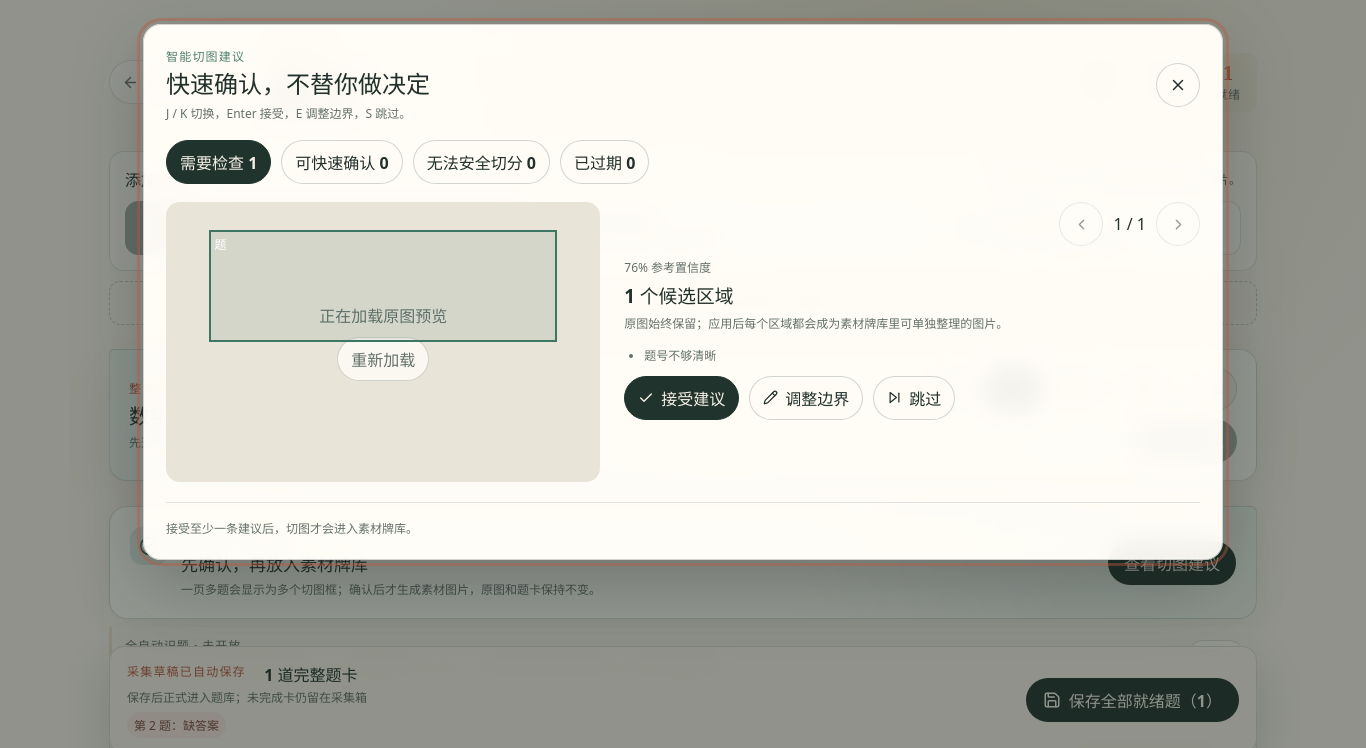
Test: CaptureWorkspace Next › returns focus to the review launcher after closing recognition suggestions
Expected: the dialog "快速确认，不替你做决定" is shown, [143,24,1223,560]
Click the button named "关闭识别建议".
click(1178, 84)  # box [1156,62,1200,106]
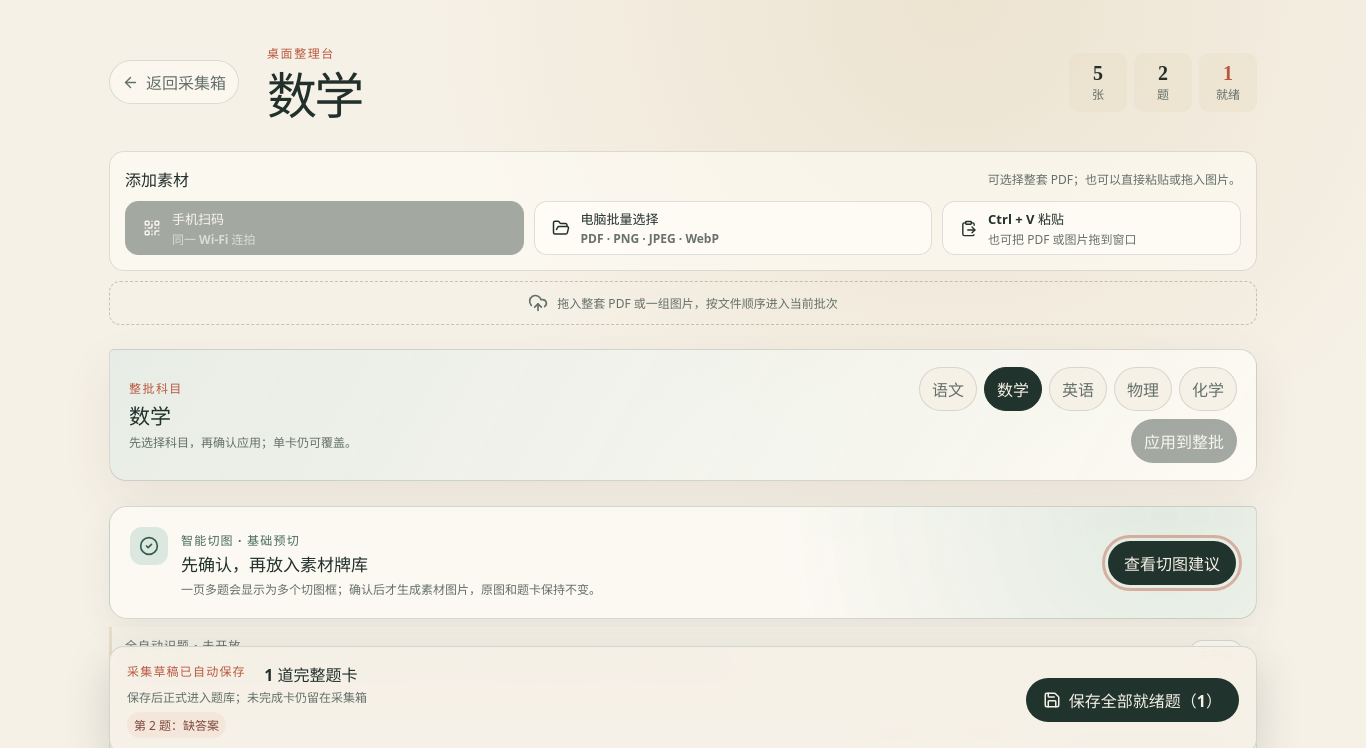
Expected: the heading "快速确认，不替你做决定" is gone
